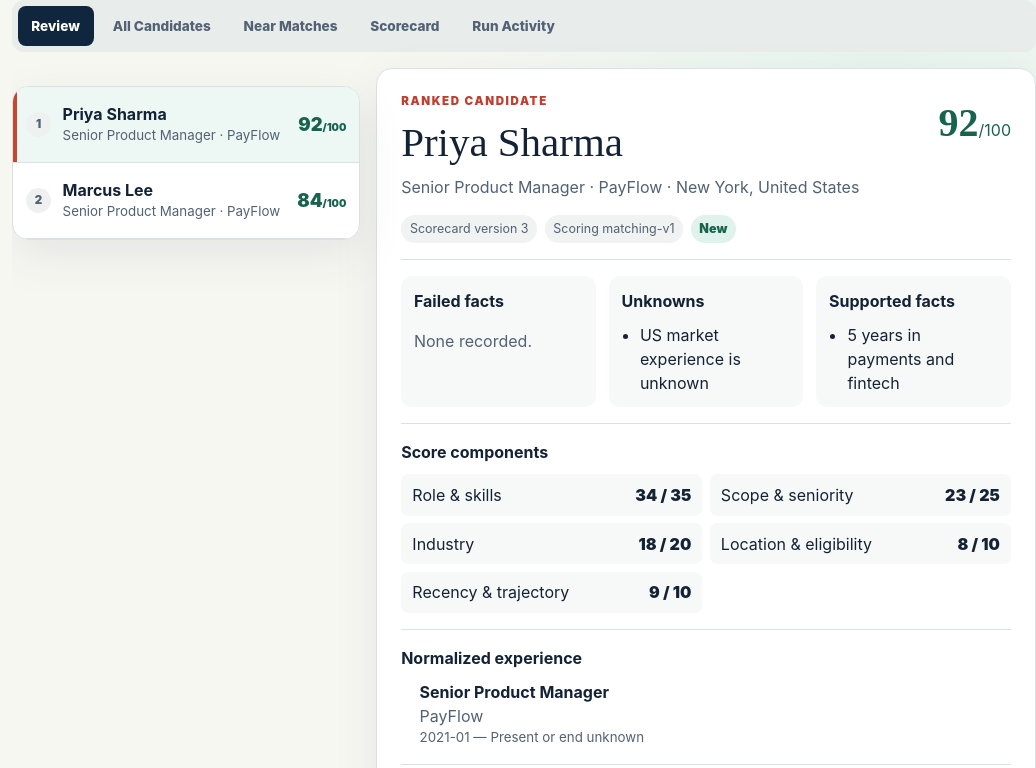
Test case: ReviewWorkspace › refreshes near matches when the shared job-candidate query is invalidated
Click the tab "Near Matches".
click(291, 26)  # box [230,6,351,46]
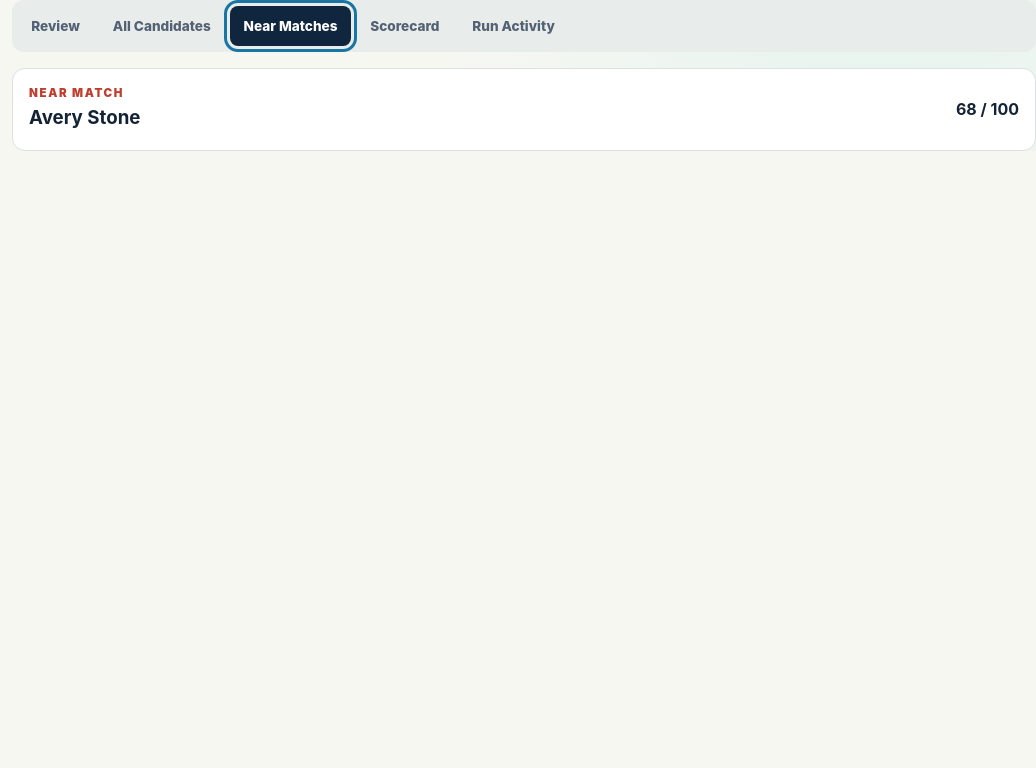
Now the heading "Avery Stone" is shown, box [29,106,140,129]
